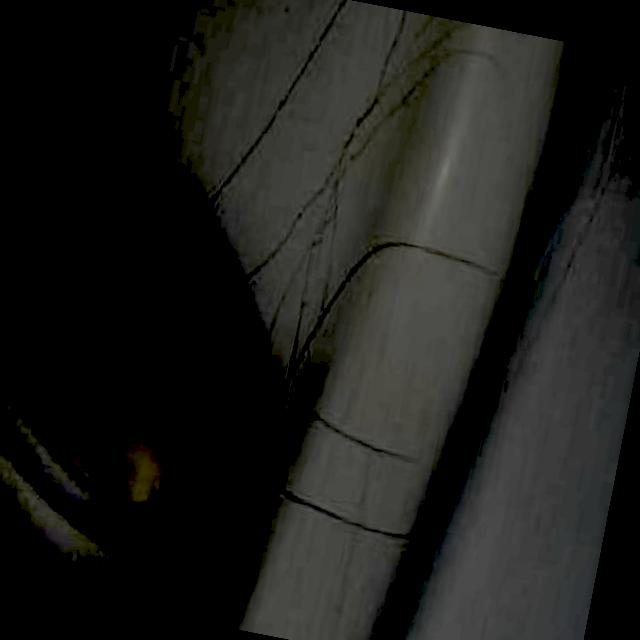crack: (252, 467, 402, 541), (282, 398, 409, 483), (409, 220, 480, 279)
